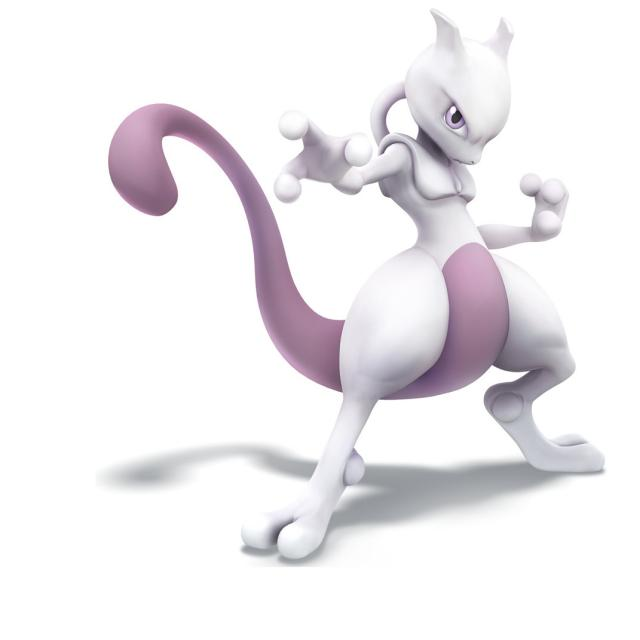Mewtwo: (317, 18, 539, 513)
